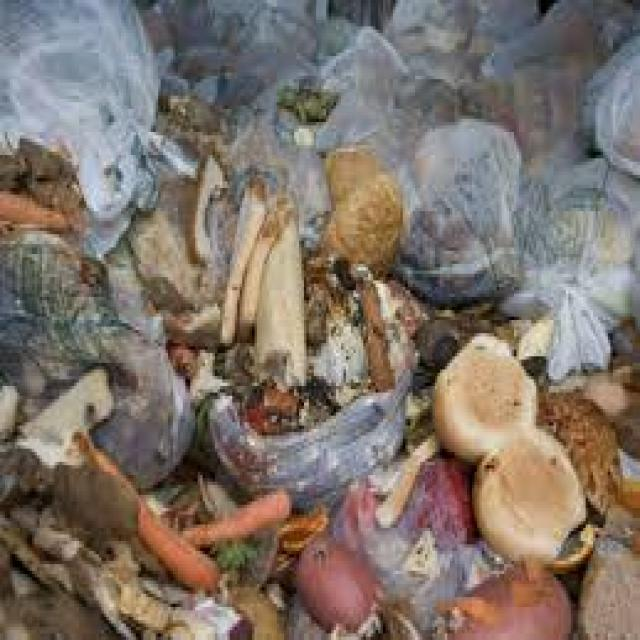food_waste: (122, 153, 572, 605)
